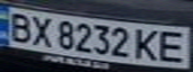2: (109, 25, 133, 60), (72, 20, 93, 54)
3: (90, 21, 112, 56)
8: (51, 18, 75, 52)
B: (3, 10, 36, 43)
E: (154, 28, 190, 63)
K: (133, 26, 163, 62)
X: (27, 14, 57, 47)
